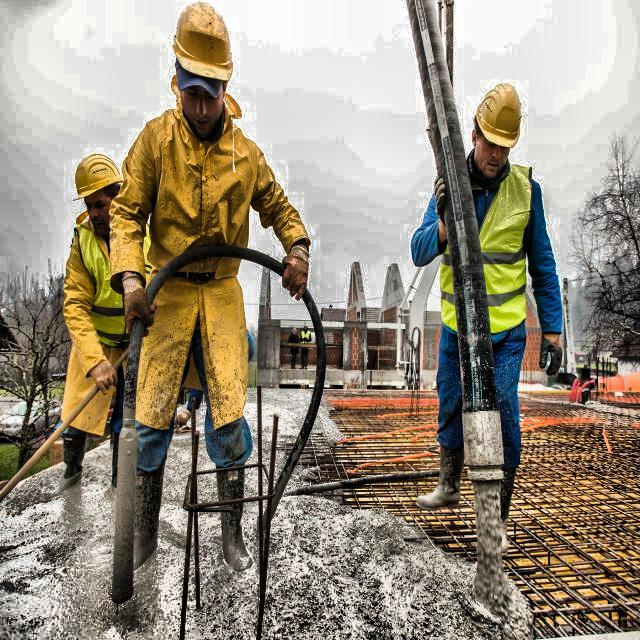person: (104, 4, 322, 554), (418, 71, 574, 528), (60, 148, 154, 480)
